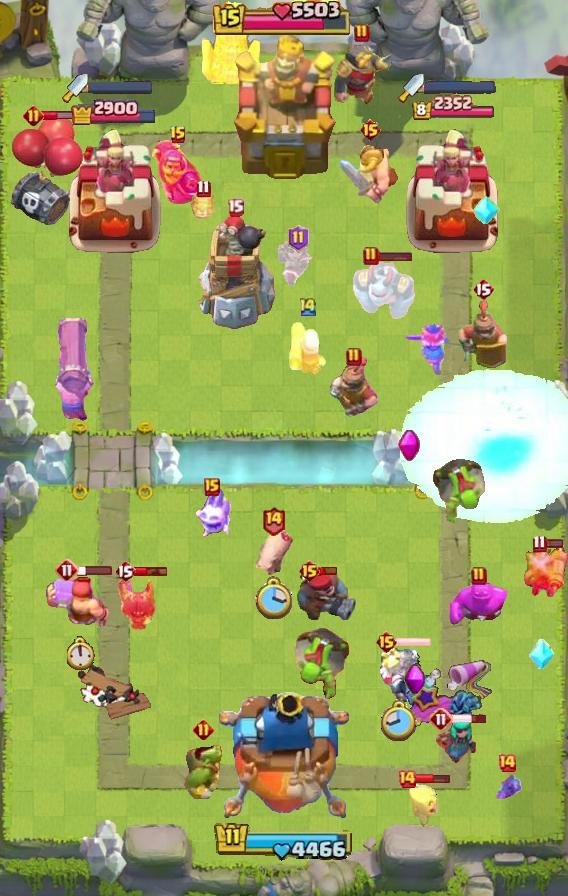bar: (41, 110, 92, 121), (451, 713, 488, 725), (395, 636, 432, 648), (133, 565, 169, 577), (77, 564, 113, 576), (377, 250, 413, 262), (415, 773, 451, 784), (318, 565, 338, 576), (545, 538, 564, 549)
bar-level: (261, 505, 286, 536), (429, 707, 453, 731), (55, 558, 79, 582), (375, 630, 398, 654), (298, 559, 321, 583), (359, 118, 382, 142), (288, 225, 309, 251), (114, 559, 136, 583), (472, 277, 494, 301), (193, 719, 214, 740), (23, 105, 44, 126), (298, 296, 318, 317), (397, 769, 417, 789), (497, 753, 517, 773), (169, 125, 187, 145), (227, 198, 244, 217), (471, 566, 487, 586), (346, 347, 362, 367), (363, 246, 379, 266), (354, 23, 370, 43), (204, 478, 220, 496), (532, 534, 547, 553), (196, 179, 211, 198)
bat-evolution: (492, 769, 522, 801)
clock: (254, 576, 292, 621), (381, 699, 418, 743), (67, 636, 96, 670)
dagger-duchess-tower: (403, 124, 503, 256), (64, 124, 164, 256)
dagger-duchess-tower-bar: (424, 80, 496, 94), (88, 81, 152, 94)
elite-barbarian: (337, 140, 403, 204)
elixir-golem-mid: (448, 581, 510, 627)
evolution-symbol: (397, 429, 421, 464), (404, 663, 426, 697)
firecracker: (522, 540, 568, 602), (287, 319, 329, 377)
goblin-ball: (292, 623, 352, 699), (430, 456, 488, 528)
goblin-brawler: (181, 743, 225, 799)
heal-spirit: (408, 783, 440, 827)
hog: (250, 527, 296, 579)
hunter: (294, 568, 358, 622)
ice-spirit-evolution: (192, 489, 232, 539)
ice-spirit-evolution-symbol: (472, 193, 500, 227), (528, 639, 554, 671)
king-tower: (219, 692, 349, 826), (231, 34, 338, 181)
king-tower-bar: (214, 821, 354, 862), (213, 0, 355, 38)
knight: (333, 44, 391, 107)
knight-evolution: (152, 139, 205, 204)
lava-pup: (189, 190, 217, 222)
little-prince: (276, 241, 320, 289)
lumberjack: (46, 574, 116, 630)
mega-minion: (351, 255, 419, 321)
rascal-girl: (435, 716, 479, 766)
royal-ghost: (378, 644, 420, 702)
royal-recruit: (458, 301, 508, 369), (328, 357, 380, 421)
tesla: (199, 0, 261, 84)
tower-bar: (70, 97, 158, 125), (411, 95, 496, 122)
valkyrie: (403, 323, 451, 377)
